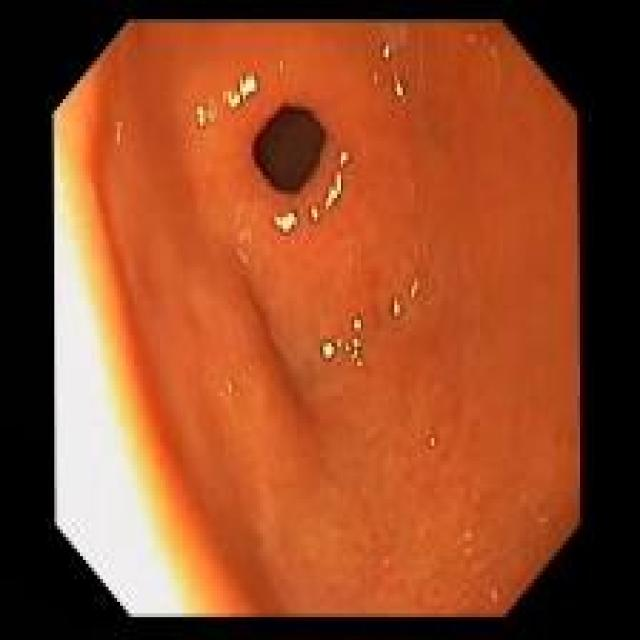contrast: (244, 100, 328, 192)
saturation: (53, 40, 223, 615)
specularity: (222, 69, 259, 111), (327, 148, 352, 208), (343, 315, 369, 369), (315, 332, 339, 368), (269, 208, 299, 233), (191, 100, 213, 132), (379, 37, 399, 68), (390, 71, 409, 103), (306, 203, 327, 229), (410, 276, 420, 300), (393, 297, 401, 315), (225, 377, 234, 393), (428, 432, 434, 448)
